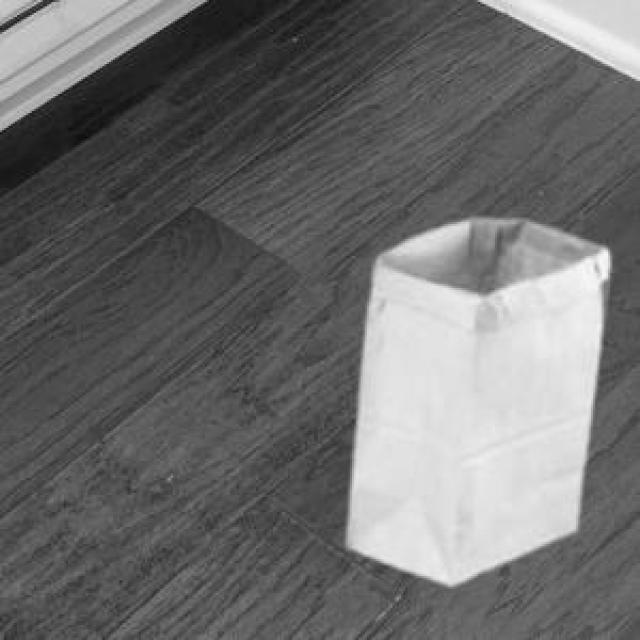paper: (344, 216, 606, 580)
